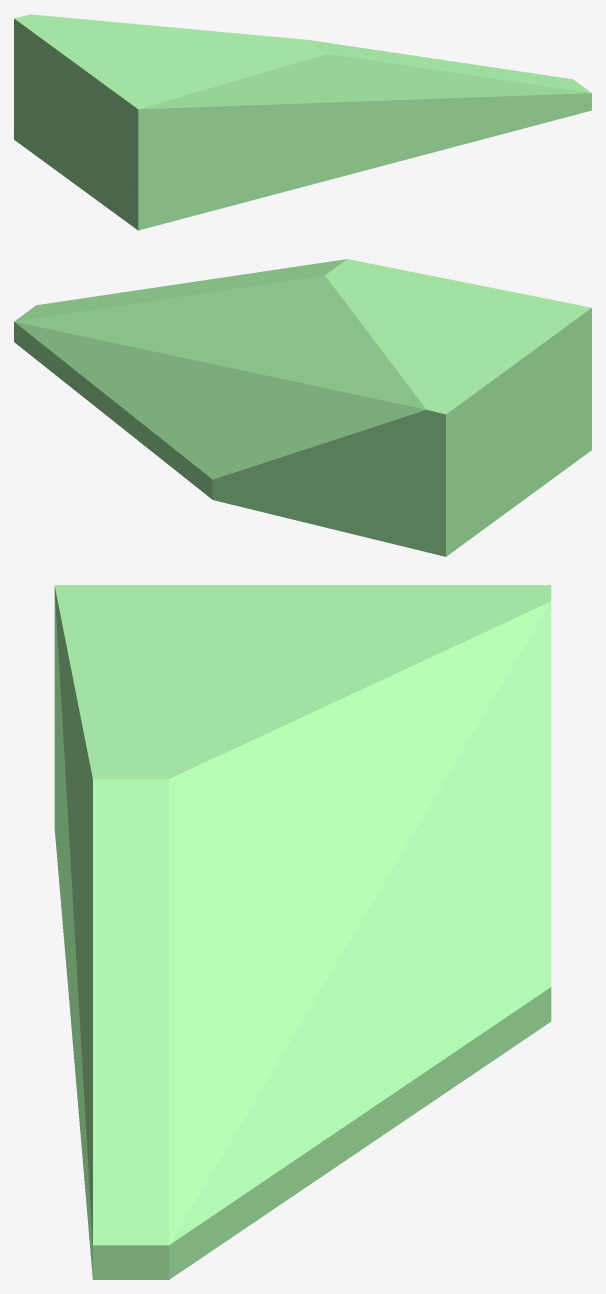
The model's file is rambler_robot_base_coll_46.dae.
3 renders of one model, top to bottom at view 1: azimuth 30°, elevation 25°; view 2: azimuth 150°, elevation 25°; view 3: azimuth 270°, elevation 25°, orthographic. The views are drawn at different scales.
Parts seen in each view (by area): view 1: Node_0x7fe100285c80; view 2: Node_0x7fe100285c80; view 3: Node_0x7fe100285c80.
Boxes of the visible parts, x1,y1,x2,y2 form: Node_0x7fe100285c80: (14, 14, 591, 230); Node_0x7fe100285c80: (14, 259, 591, 556); Node_0x7fe100285c80: (54, 585, 551, 1279).
Bounding box in the file's own units: 0.3832 × 0.0958 × 0.1779.
